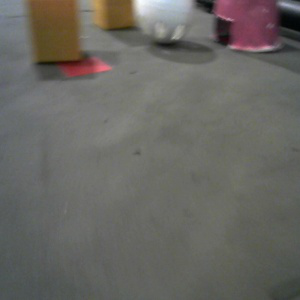right: (212, 1, 286, 53)
